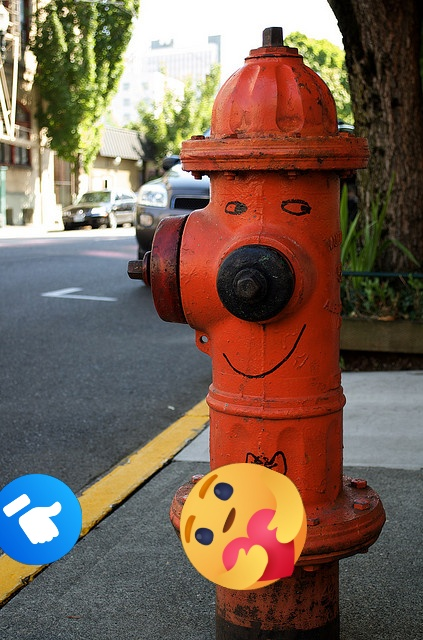care: (180, 463, 307, 590)
like: (0, 474, 82, 565)
